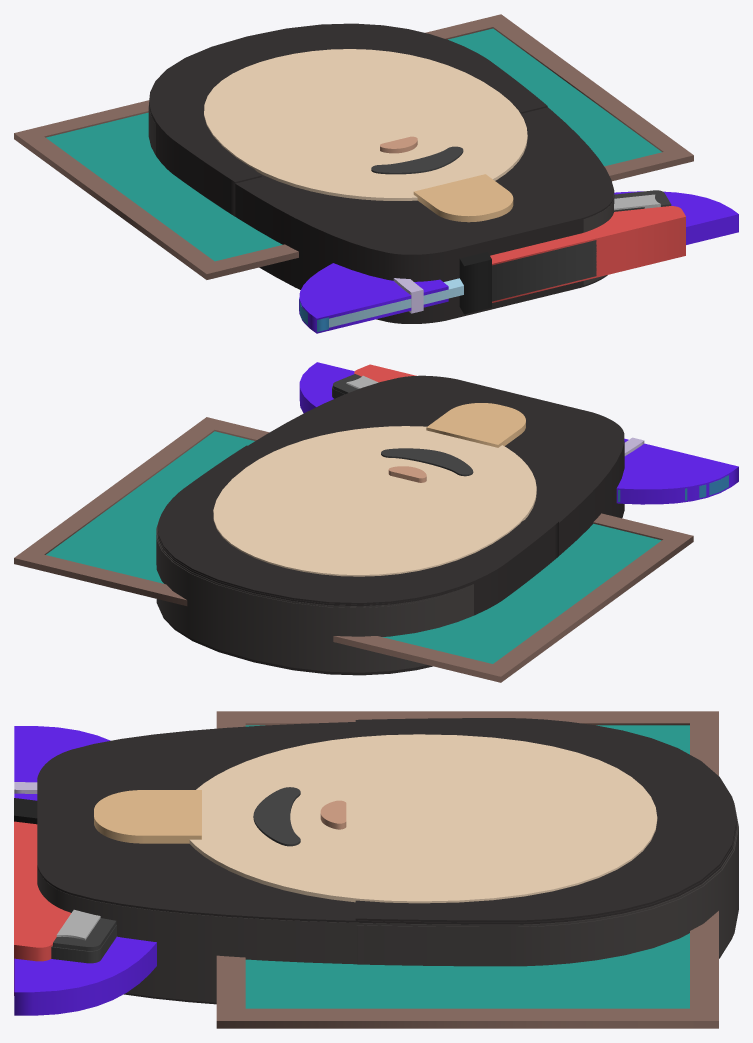
File: emoji_u1f469_1f3fb_200d_1f3eb.glb
3 renders of one model, top to bottom at view 1: azimuth 30°, elevation 25°; view 2: azimuth 150°, elevation 25°; view 3: azimuth 270°, elevation 25°, orthographic. The views are drawn at different scales.
Parts seen in each view (by area): view 1: emoji_u1f469_1f3fb_200d_1f3eb; view 2: emoji_u1f469_1f3fb_200d_1f3eb; view 3: emoji_u1f469_1f3fb_200d_1f3eb.
Part boxes in pixels (x1,y1,x2,y2): emoji_u1f469_1f3fb_200d_1f3eb: (14, 14, 738, 333); emoji_u1f469_1f3fb_200d_1f3eb: (14, 362, 738, 682); emoji_u1f469_1f3fb_200d_1f3eb: (14, 711, 738, 1028).
Bounding box in the file's own units: 0.0338 × 0.0056 × 0.0335.
